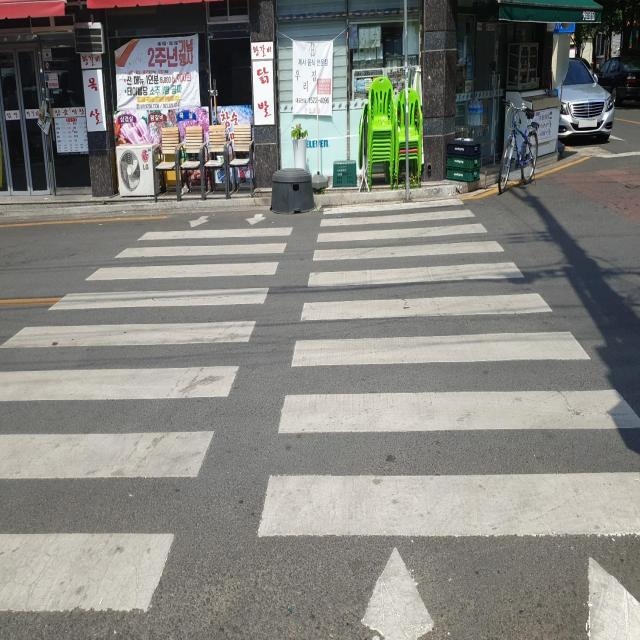횡단보도: (1, 195, 640, 640)
